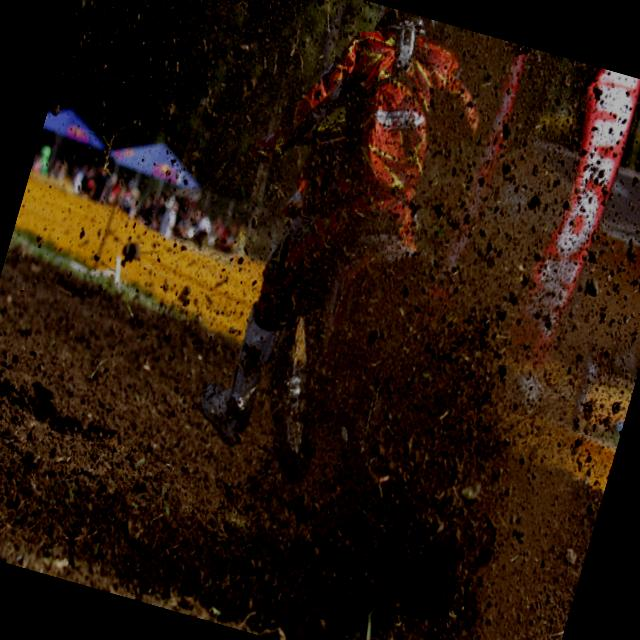Vehicle: (244, 200, 448, 512)
